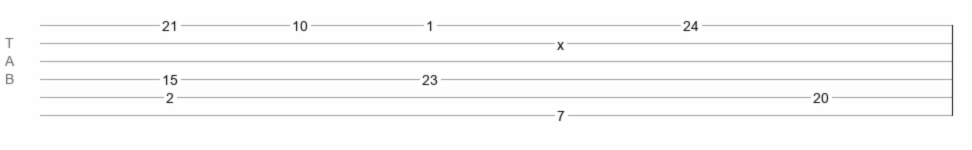1: (426, 18, 434, 28)
10: (292, 18, 308, 28)
15: (162, 72, 178, 82)
2: (166, 90, 174, 100)
20: (813, 90, 829, 100)
21: (162, 18, 178, 28)
23: (422, 72, 438, 82)
24: (683, 18, 699, 28)
7: (557, 108, 565, 118)
x: (557, 37, 564, 45)
